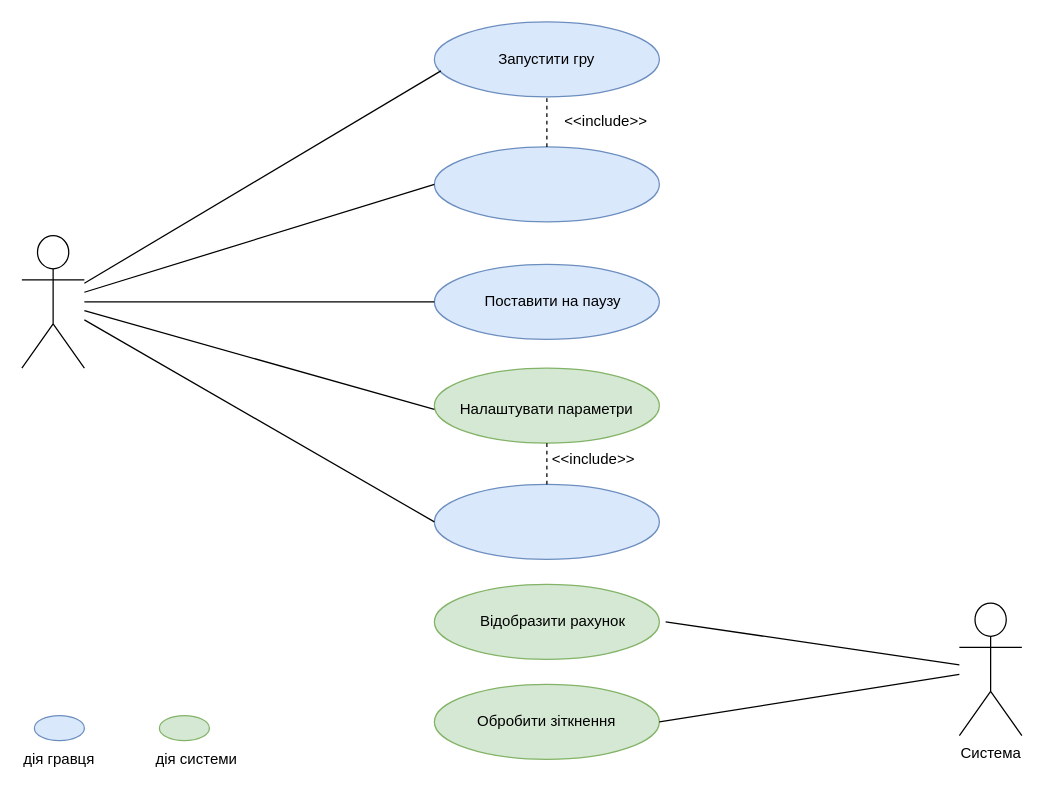
Image size: 1044x800. Some labels were removed from this diagram. Here are the shapes that lost their labels. From the top down, the centre of each, then its label:
[546,184]: Керувати платформою
[52,301]: Гравець
[546,521]: Перезапустити гру
